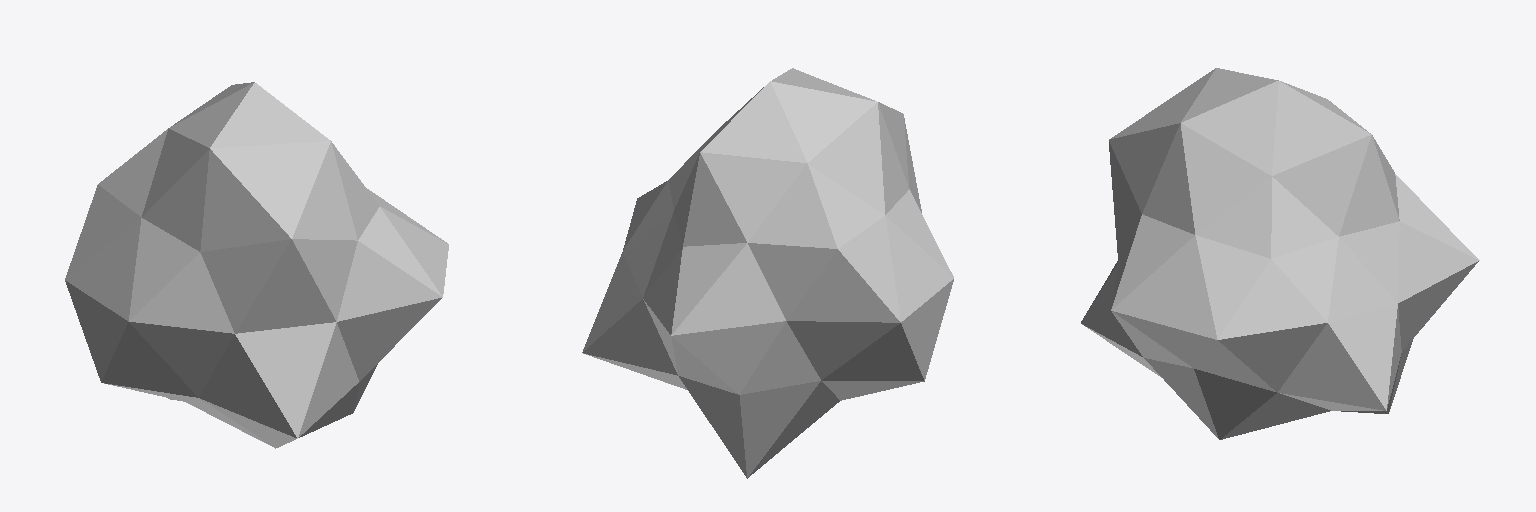
Rendered from explosion_regular.obj.
The picture shows the model from 3 angles: view 1: azimuth 30°, elevation 25°; view 2: azimuth 150°, elevation 25°; view 3: azimuth 270°, elevation 25°; orthographic projection.
Parts seen in each view (by area): view 1: Icosphere.001; view 2: Icosphere.001; view 3: Icosphere.001.
Boxes of the visible parts, x1=… form: Icosphere.001: x1=65, y1=82, x2=448, y2=448; Icosphere.001: x1=582, y1=68, x2=953, y2=478; Icosphere.001: x1=1081, y1=68, x2=1479, y2=439.
Size of the model in its own units: 1.91 by 1.97 by 2.04.